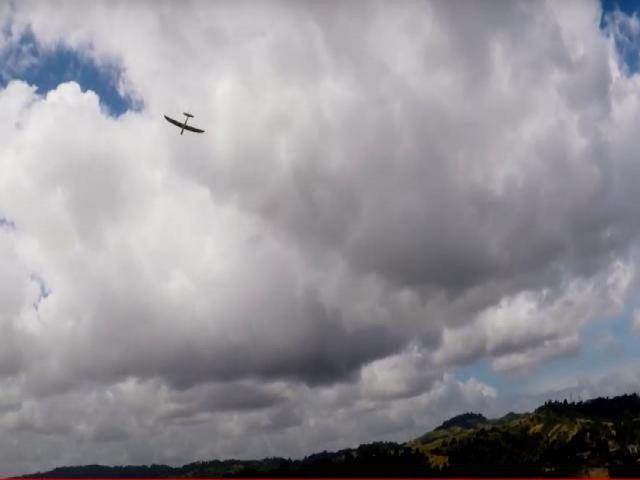iha: (162, 106, 209, 140)
